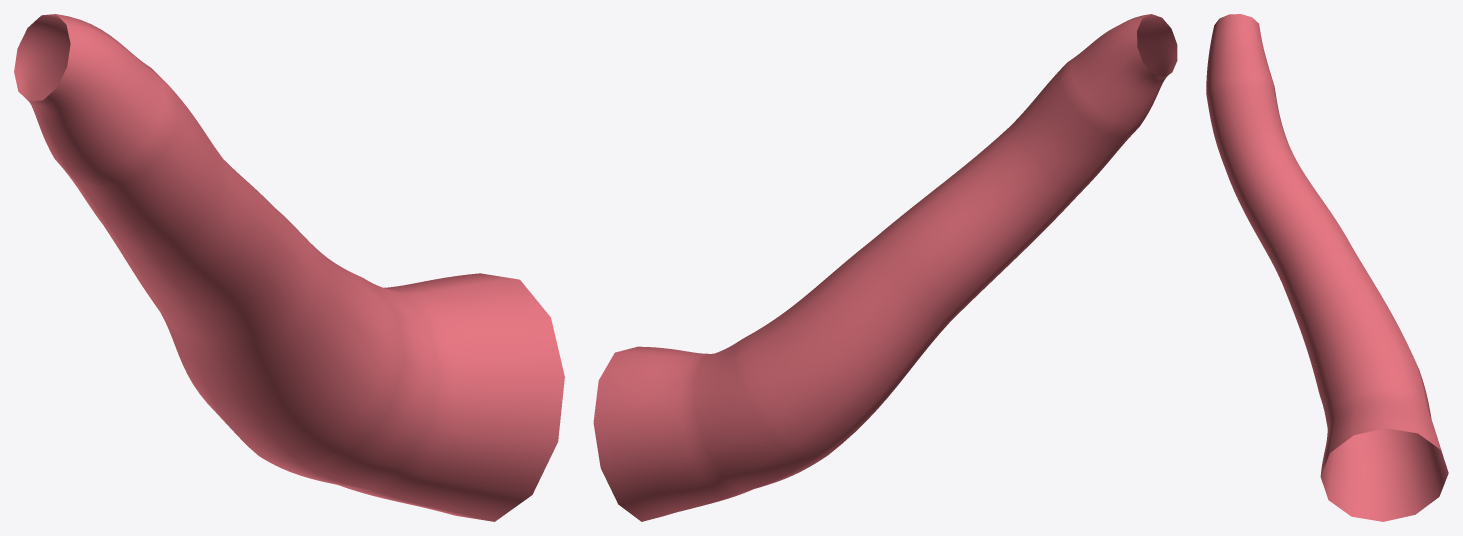
3 views of the same model, side by side, from view 1: azimuth 30°, elevation 25°; view 2: azimuth 150°, elevation 25°; view 3: azimuth 270°, elevation 25° (orthographic). The views are drawn at different scales.
Parts seen in each view (by area): view 1: ZA_44cfcdcb75fc71cc; view 2: ZA_44cfcdcb75fc71cc; view 3: ZA_44cfcdcb75fc71cc.
Boxes of the visible parts, x1,y1,x2,y2 form: ZA_44cfcdcb75fc71cc: (14, 14, 564, 521); ZA_44cfcdcb75fc71cc: (593, 14, 1177, 521); ZA_44cfcdcb75fc71cc: (1206, 14, 1448, 521).
Size of the model in its own units: 0.0323 by 0.0353 by 0.0208.
